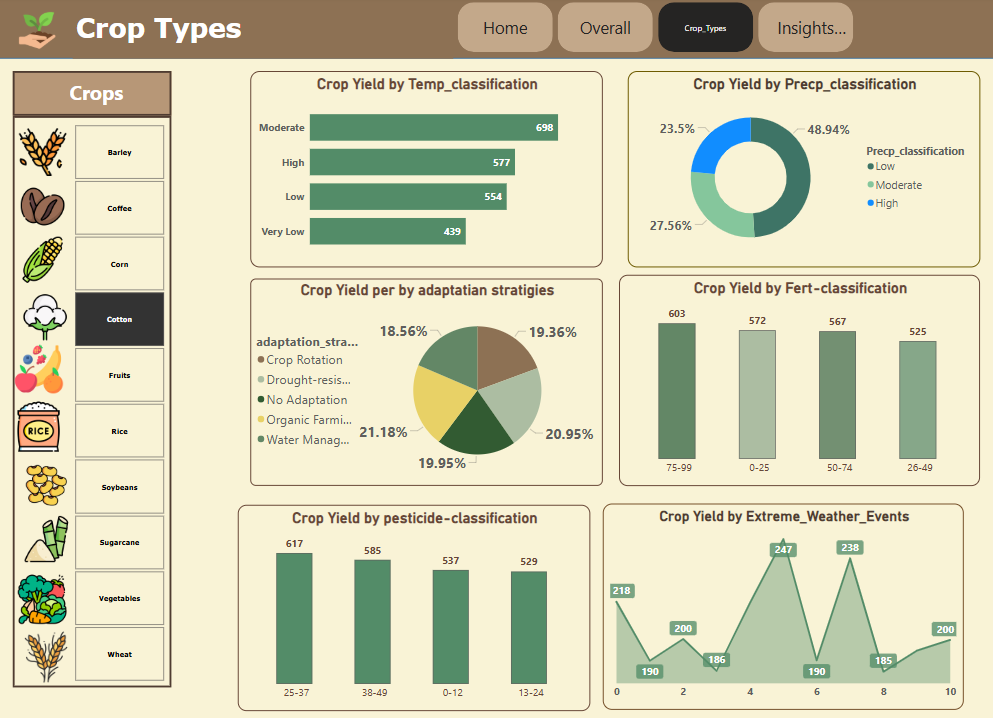

Layout of this report page (visuals, bound fields, positions):
{"tool":"powerbi","page":{"name":"Crop_Types","canvas":[1600,1200],"ordinal":2},"visuals":[{"type":"shape","box":[0,0,1600.5,100.5],"z":0},{"type":"textbox","box":[119.5,19.5,612.2,80.5],"z":1000},{"type":"donutChart","title":" Crop Yield by Precp_classification","fields":{"Category":["climate_change_impact_on_agriculture_2024.Precp_classification"],"Y":["Sum(climate_change_impact_on_agriculture_2024.Crop_Yield_MT_per_HA)"]},"box":[1011.4,120.6,567,315.7],"z":2000},{"type":"areaChart","title":"Crop Yield  by Extreme_Weather_Events","fields":{"Category":["climate_change_impact_on_agriculture_2024.Extreme_Weather_Events"],"Y":["Sum(climate_change_impact_on_agriculture_2024.Crop_Yield_MT_per_HA)"]},"box":[971.2,816.4,581.1,331.8],"z":3000},{"type":"image","box":[26.2,20,70.8,70.8],"z":4000},{"type":"clusteredBarChart","title":" Crop Yield by Temp_classification","fields":{"Category":["climate_change_impact_on_agriculture_2024.Temp_classification"],"Y":["Sum(climate_change_impact_on_agriculture_2024.Crop_Yield_MT_per_HA)"]},"box":[404.2,120.6,567,315.7],"z":5000},{"type":"pieChart","title":" Crop Yield per by adaptatian stratigies","fields":{"Y":["Sum(climate_change_impact_on_agriculture_2024.Crop_Yield_MT_per_HA)"],"Series":["climate_change_impact_on_agriculture_2024.Adaptation_Strategies"]},"box":[404.2,454.4,567,333.8],"z":6000},{"type":"clusteredColumnChart","title":"Crop Yield  by Fert-classification","fields":{"Category":["climate_change_impact_on_agriculture_2024.Fert-classification"],"Y":["Sum(climate_change_impact_on_agriculture_2024.Crop_Yield_MT_per_HA)"]},"box":[997.3,448.4,581.1,339.8],"z":7000},{"type":"clusteredColumnChart","title":" Crop Yield by pesticide-classification","fields":{"Category":["climate_change_impact_on_agriculture_2024.pesticide-classification"],"Y":["Sum(climate_change_impact_on_agriculture_2024.Crop_Yield_MT_per_HA)"]},"box":[384.1,818.4,567,331.8],"z":8000},{"type":"shape","box":[22.1,120.6,255.4,72.4],"z":9000},{"type":"textbox","box":[108.6,128.7,116.6,58.3],"z":10000},{"type":"shape","box":[22.1,193,255.4,918.9],"z":11000},{"type":"slicer","fields":{"Values":["climate_change_impact_on_agriculture_2024.Crop_Type"]},"box":[96.5,201.1,193,906.8],"z":12000},{"type":"image","box":[8,647.5,110.6,90.5],"z":13000},{"type":"image","box":[14.1,1015.4,122.7,96.5],"z":14000},{"type":"image","box":[34.2,816.4,84.5,114.6],"z":15000},{"type":"image","box":[32.2,448.4,84.5,136.7],"z":16000},{"type":"image","box":[24.1,176.9,92.5,148.8],"z":17000},{"type":"image","box":[28.2,355.9,84.5,136.7],"z":18000},{"type":"image","box":[30.2,279.5,80.4,118.6],"z":19000},{"type":"image","box":[20.1,536.9,88.5,126.7],"z":20000},{"type":"image","box":[38.2,737.9,76.4,98.5],"z":21000},{"type":"image","box":[24.1,902.8,90.5,134.7],"z":22000},{"type":"pageNavigator","box":[737.9,10.1,639.4,80.4],"z":23000}]}

Visuals, with their boxes on the page's 1600x1200 design canvas (x1, y1, x2, y2). These are canvas units, not pixel positions in the 993x718 screenshot, which may show the page scaled, cropped or inside an application window:
shape: 0:0:1600:100
textbox: 120:20:732:100
" Crop Yield by Precp_classification" donutChart: 1011:121:1578:436
"Crop Yield  by Extreme_Weather_Events" areaChart: 971:816:1552:1148
image: 26:20:97:91
" Crop Yield by Temp_classification" clusteredBarChart: 404:121:971:436
" Crop Yield per by adaptatian stratigies" pieChart: 404:454:971:788
"Crop Yield  by Fert-classification" clusteredColumnChart: 997:448:1578:788
" Crop Yield by pesticide-classification" clusteredColumnChart: 384:818:951:1150
shape: 22:121:278:193
textbox: 109:129:225:187
shape: 22:193:278:1112
slicer - climate_change_impact_on_agriculture_2024.Crop_Type: 96:201:290:1108
image: 8:648:119:738
image: 14:1015:137:1112
image: 34:816:119:931
image: 32:448:117:585
image: 24:177:117:326
image: 28:356:113:493
image: 30:280:111:398
image: 20:537:109:664
image: 38:738:115:836
image: 24:903:115:1038
pageNavigator: 738:10:1377:90
